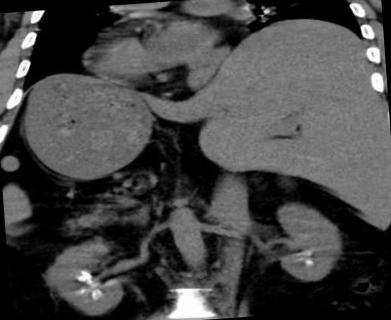Tas_Var: (76, 270, 94, 282), (299, 258, 319, 268), (295, 248, 313, 258), (88, 289, 102, 301), (74, 276, 86, 286), (74, 288, 88, 296)
